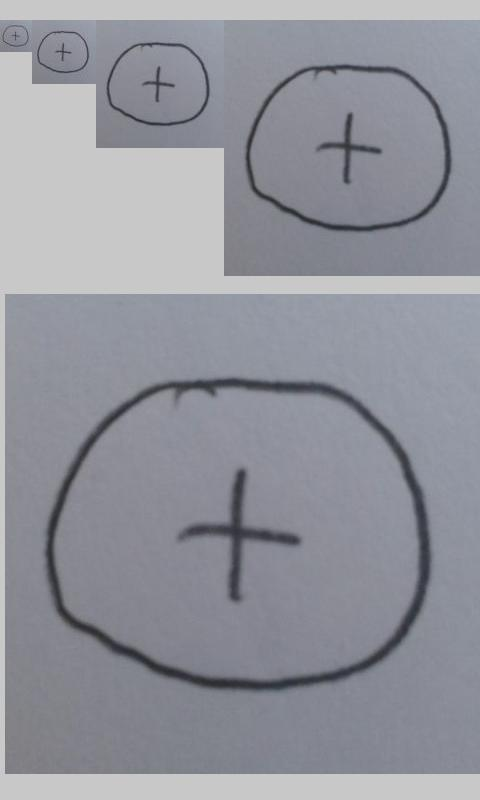button: (44, 375, 431, 694), (245, 64, 451, 233), (106, 41, 211, 127), (36, 30, 90, 74), (2, 25, 29, 47)
